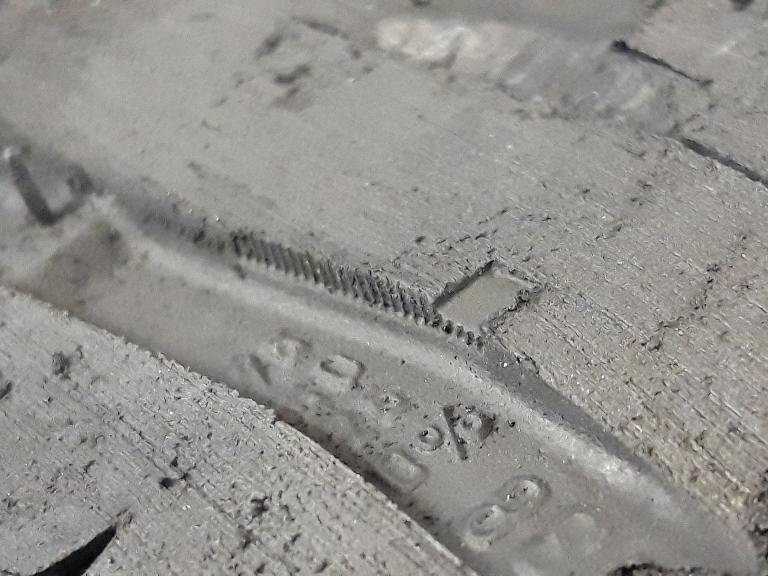temoin:25: (363, 230, 564, 382)
